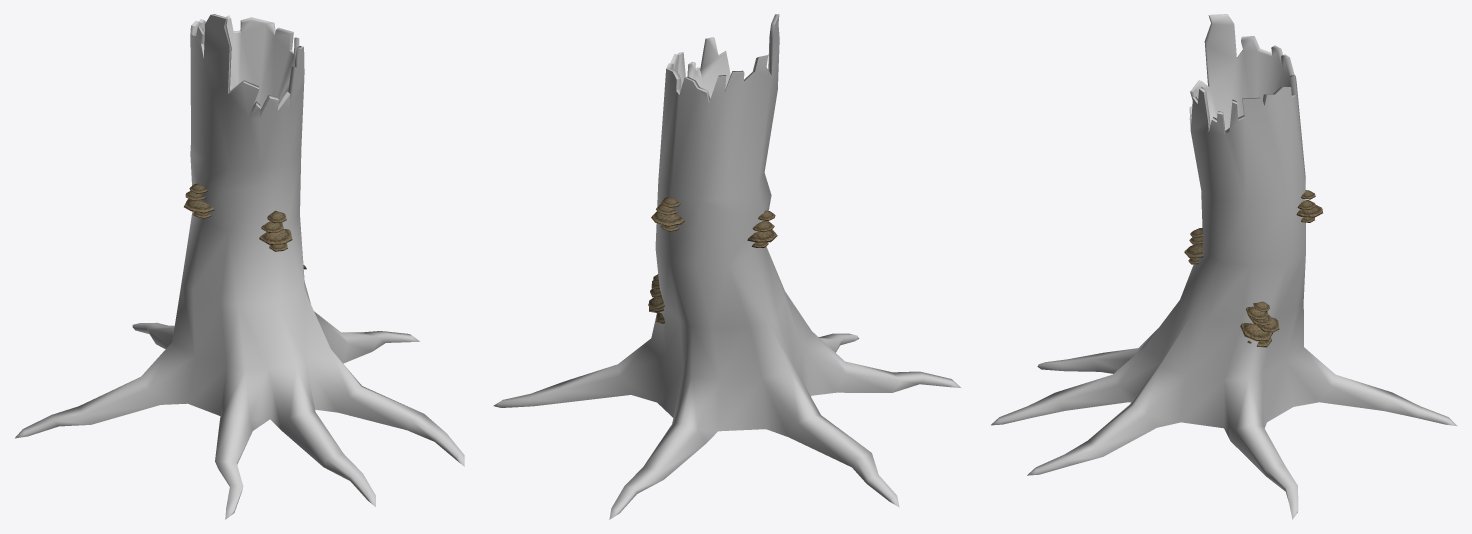
The model's file is Trunk3.fbx.
3 views of the same model, side by side, from view 1: azimuth 30°, elevation 25°; view 2: azimuth 150°, elevation 25°; view 3: azimuth 270°, elevation 25° (orthographic). The views are drawn at different scales.
Parts seen in each view (by area): view 1: polySurface270; view 2: polySurface270; view 3: polySurface270.
Boxes of the visible parts, <box> form: polySurface270: <box>15,14,464,519</box>; polySurface270: <box>493,14,960,519</box>; polySurface270: <box>991,14,1457,519</box>.
Bounding box in the file's own units: 3.66 × 3.58 × 3.85.
